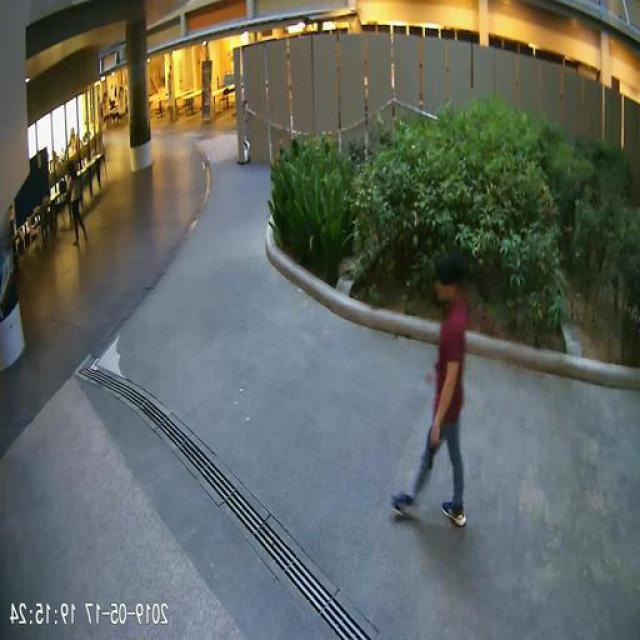Gun: (424, 426, 444, 472)
